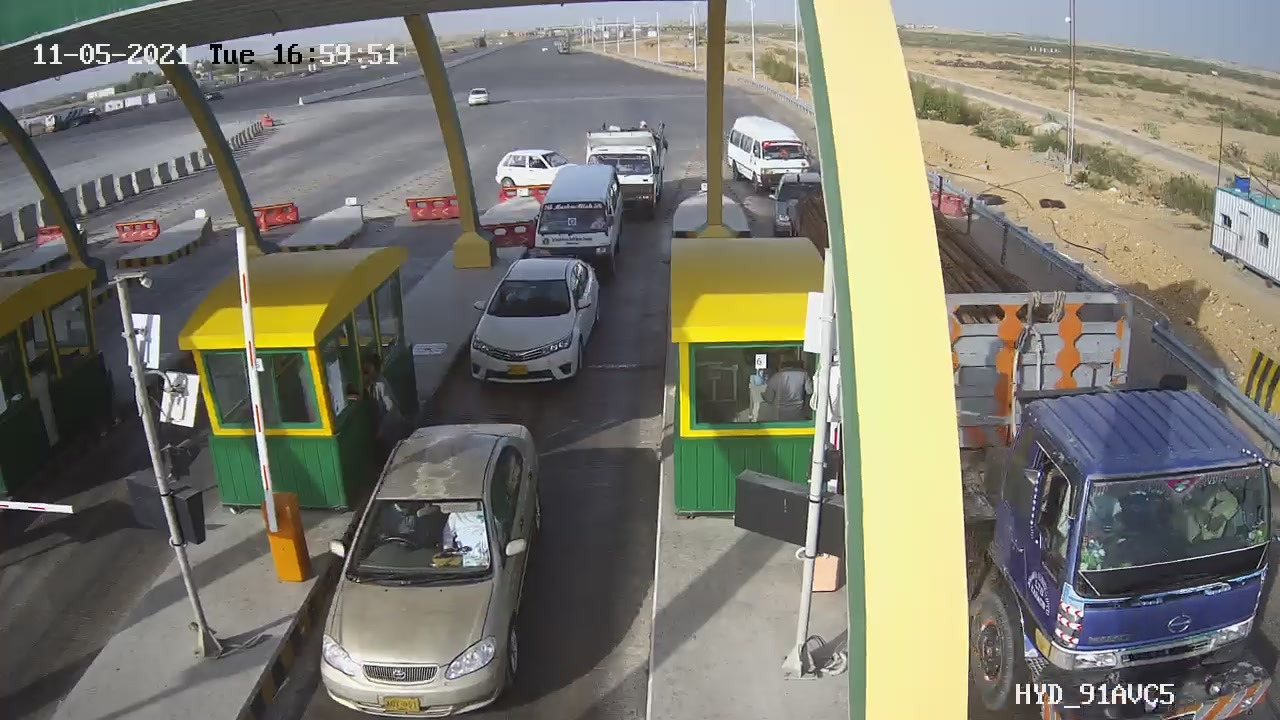F1: (448, 243, 620, 405)
